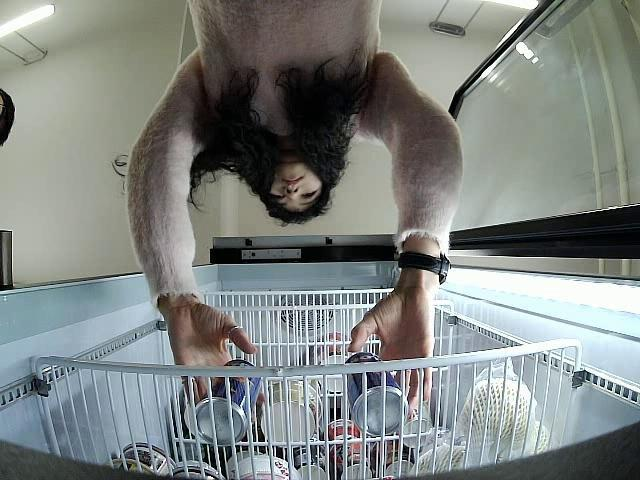16_hot6: (196, 359, 264, 442), (344, 352, 411, 436)
